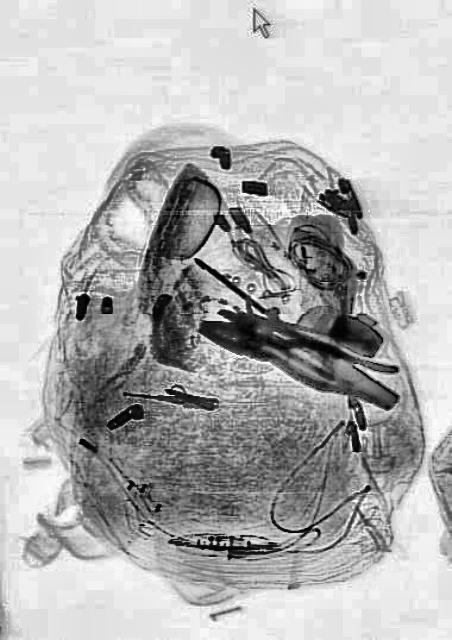Pliers: (194, 296, 398, 414)
